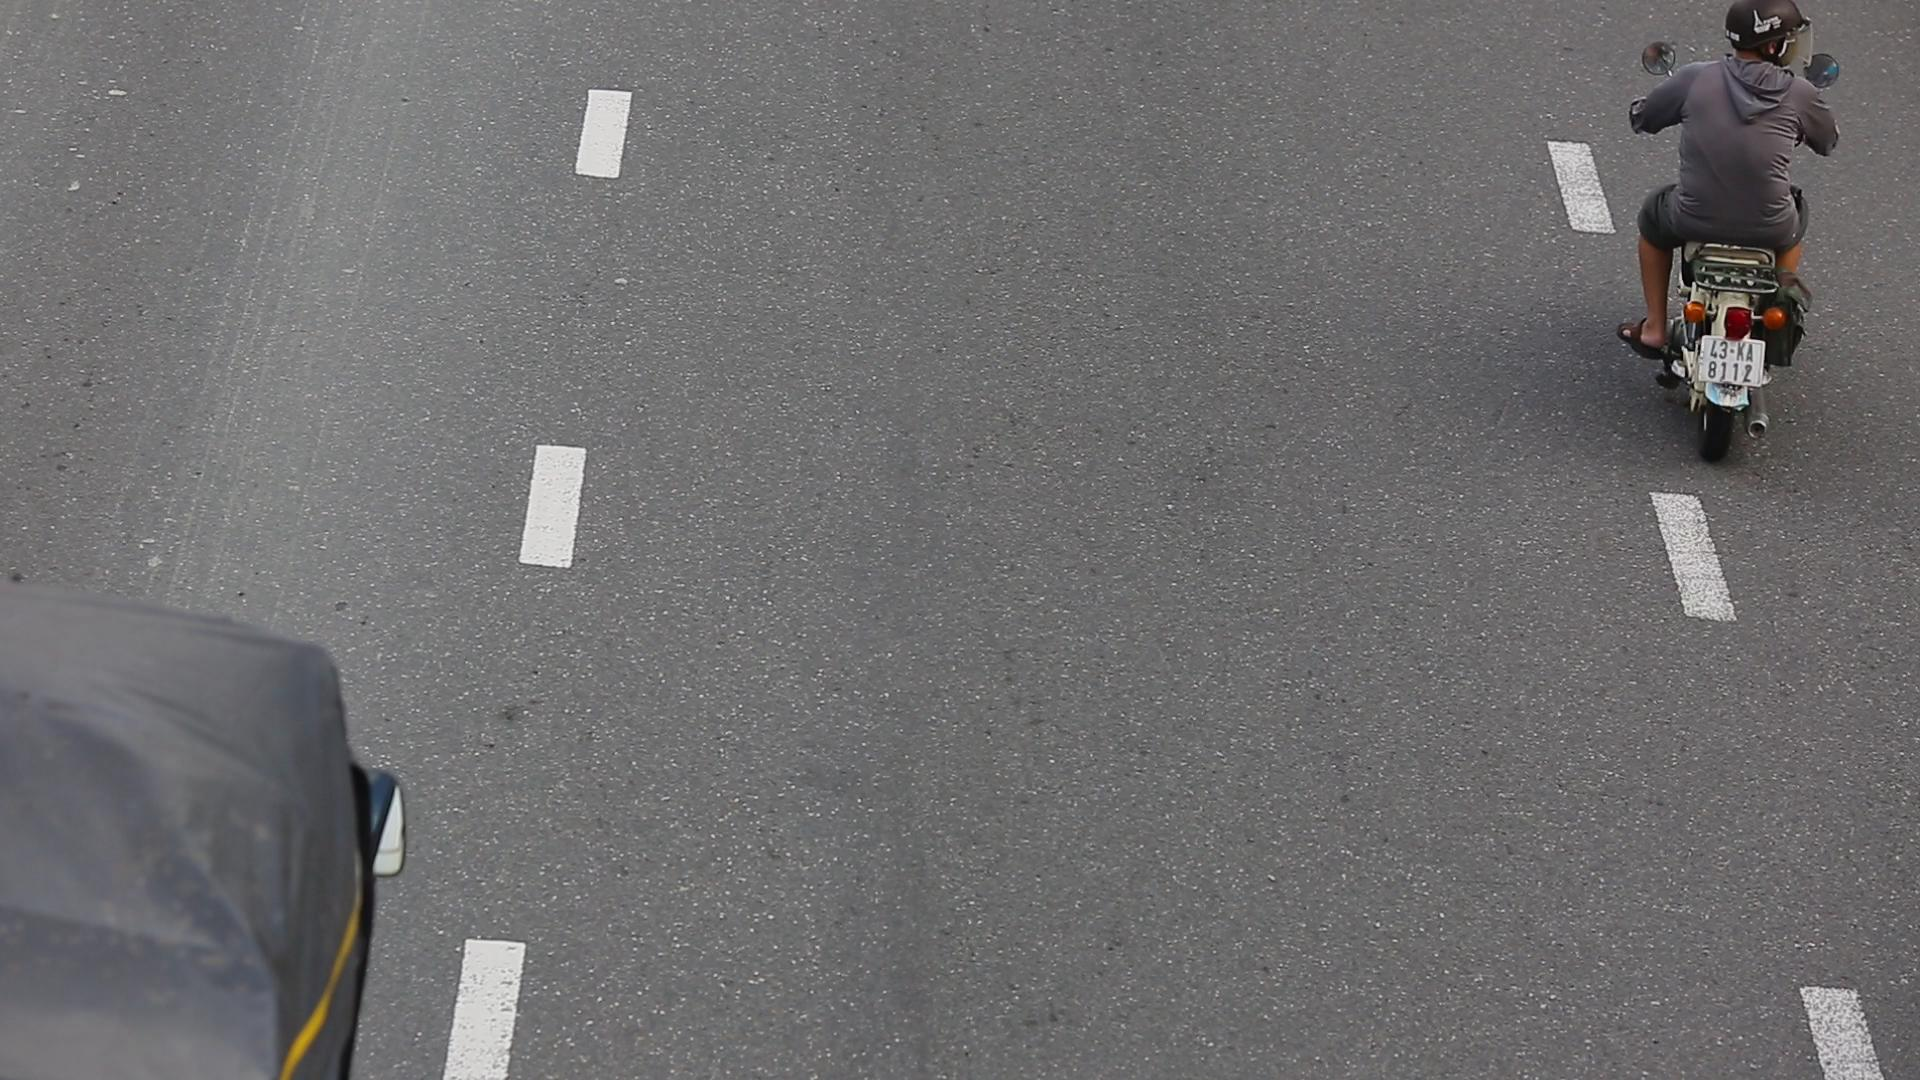motobike: (1613, 0, 1858, 467)
